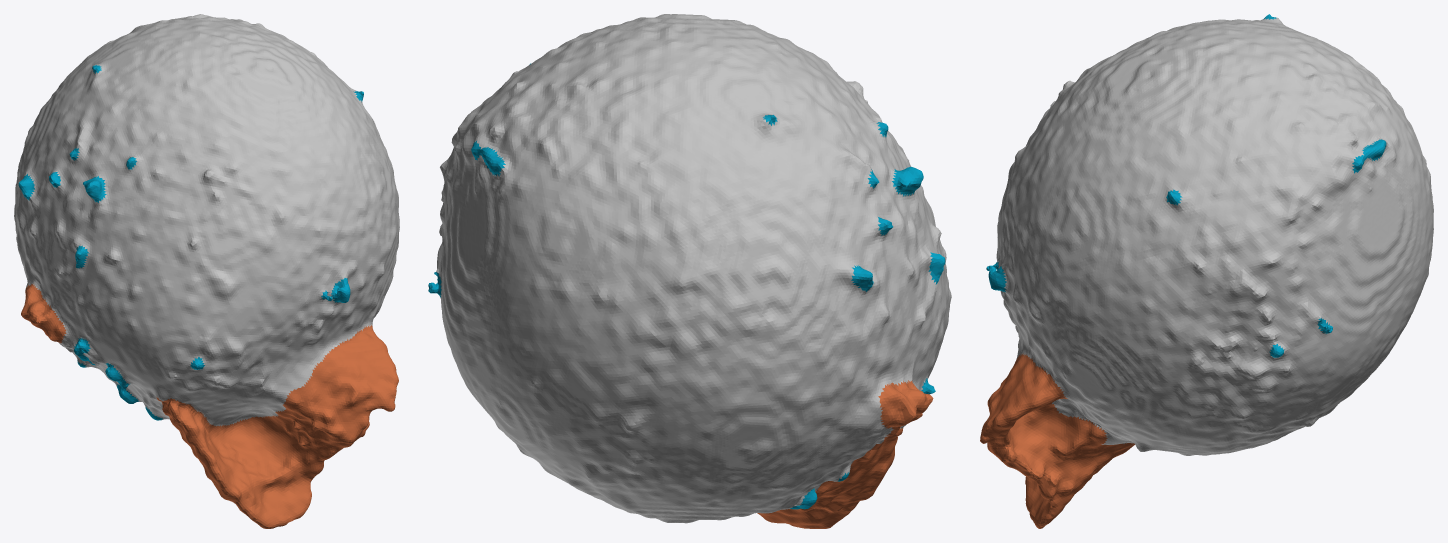
The picture shows the model from 3 angles, left to right: view 1: azimuth 30°, elevation 25°; view 2: azimuth 150°, elevation 25°; view 3: azimuth 270°, elevation 25°; orthographic projection. The views are drawn at different scales.
Bounding box in the file's own units: 128 × 151 × 128.
